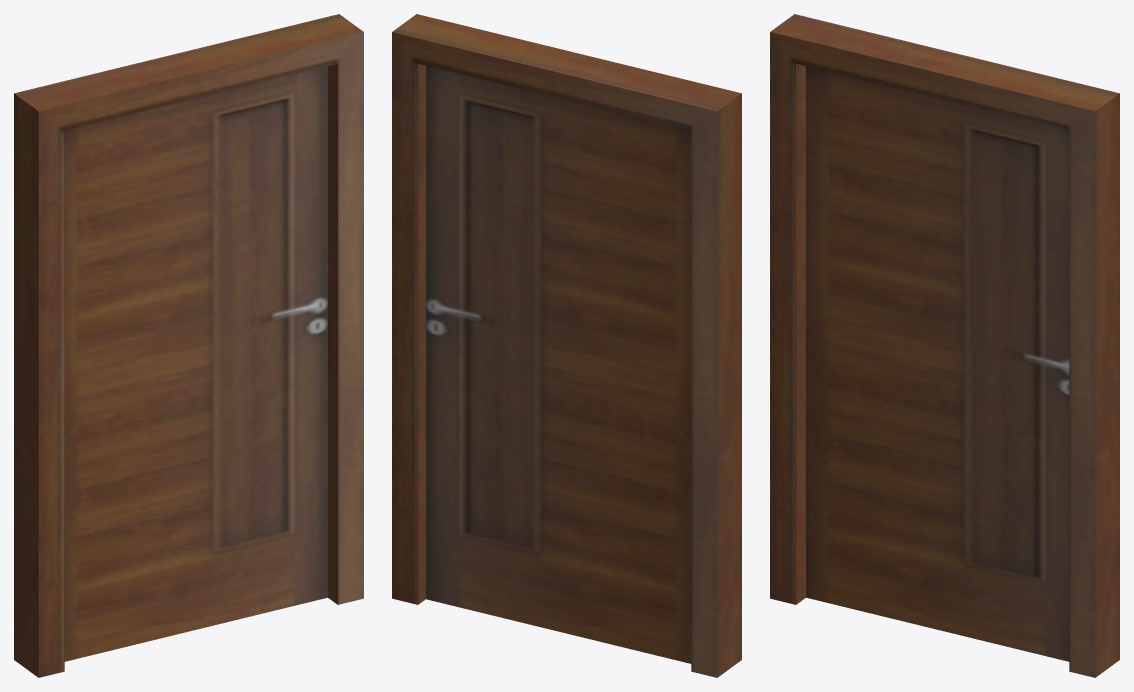
Rendered from Door.FBX.
The picture shows the model from 3 angles, left to right: view 1: azimuth 30°, elevation 25°; view 2: azimuth 150°, elevation 25°; view 3: azimuth 330°, elevation 25°; orthographic projection.
Parts seen in each view (by area): view 1: Door_Porte, Door_Cadre; view 2: Door_Porte, Door_Cadre; view 3: Door_Porte, Door_Cadre.
Part boxes in pixels (box(x1,y1,x2,y2)): Door_Porte: box(64, 66, 327, 661); Door_Cadre: box(14, 14, 363, 677); Door_Porte: box(426, 66, 691, 663); Door_Cadre: box(392, 14, 741, 677); Door_Porte: box(806, 66, 1069, 661); Door_Cadre: box(770, 14, 1119, 677).
Bounding box in the file's own units: 88.94 × 148 × 11.64.
